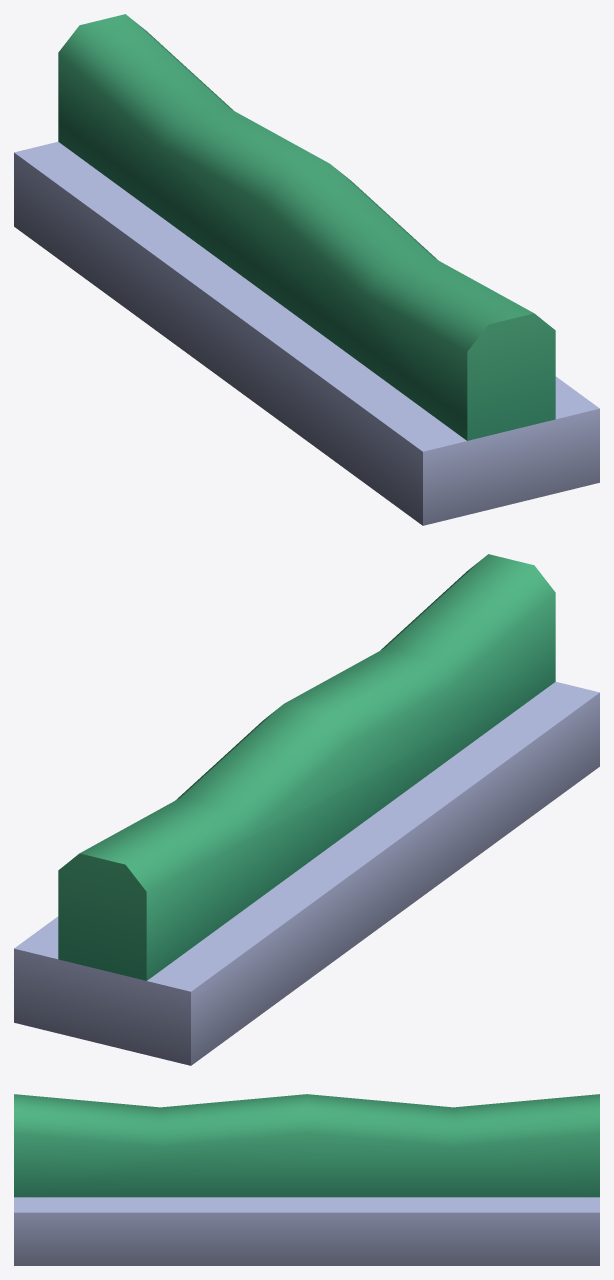
Rendered from fence-kn-hedge.glb.
3 renders of one model, top to bottom at view 1: azimuth 30°, elevation 25°; view 2: azimuth 150°, elevation 25°; view 3: azimuth 270°, elevation 25°, orthographic. The views are drawn at different scales.
Parts seen in each view (by area): view 1: hedge; view 2: hedge; view 3: hedge.
Boxes of the visible parts, x1,y1,x2,y2 form: hedge: [14, 14, 599, 525]; hedge: [14, 554, 599, 1065]; hedge: [14, 1094, 599, 1265].
Size of the model in its own units: 0.75 by 0.75 by 3.
1 material, 1 textured.
